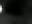person: (1, 2, 4, 12)
